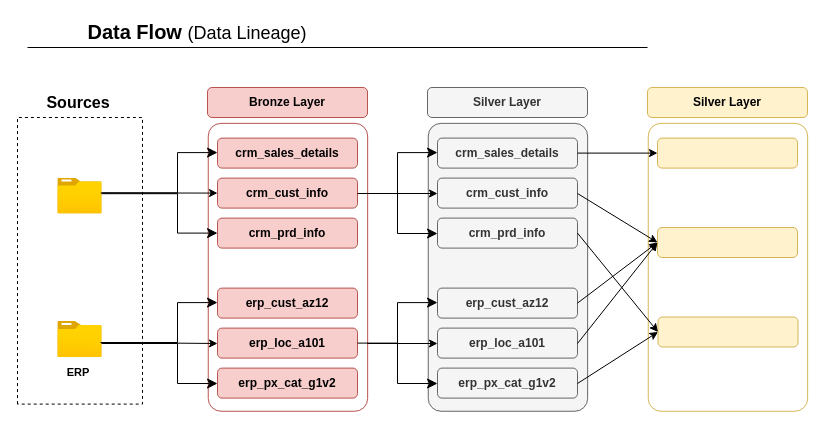
This 826x429 diagram has some shape labels left out. Here are the shapes that lost their labels. From the top down, the centre of each, then its label:
At [727,152]: "fact_sales".
At [79,260]: "CRM".
At [727,242]: "dim_customers".
At [727,331]: "dim_products".
